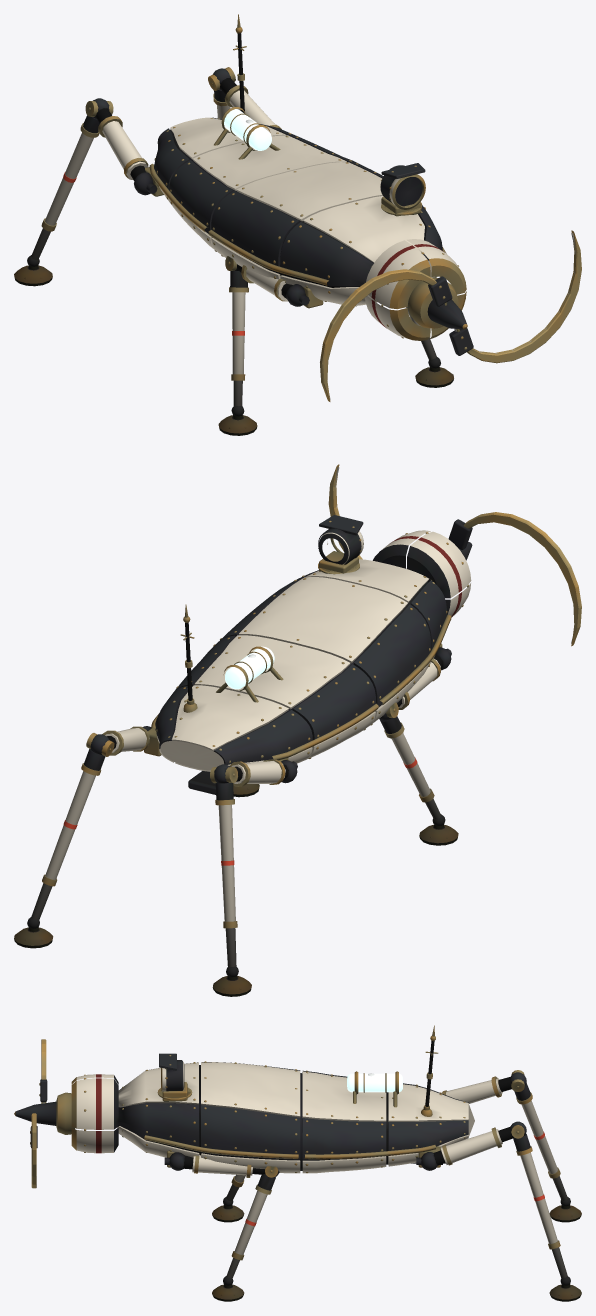
The model's file is sickle.glb.
3 views of the same model, one above another, from view 1: azimuth 30°, elevation 25°; view 2: azimuth 150°, elevation 25°; view 3: azimuth 270°, elevation 25° (orthographic). The views are drawn at different scales.
Parts seen in each view (by area): view 1: sickle-hull, sickle-flask; view 2: sickle-hull, sickle-flask; view 3: sickle-hull, sickle-flask.
Part boxes in pixels (x1,y1,x2,y2): sickle-hull: (14,14,581,435); sickle-flask: (224,109,271,150); sickle-hull: (14,464,581,996); sickle-flask: (225,646,274,689); sickle-hull: (14,1025,581,1301); sickle-flask: (347,1073,402,1092).
Size of what is drawn, in the model's own units: 1.55 by 1.7 by 3.63.
Materials: 2 (1 with a texture image).
